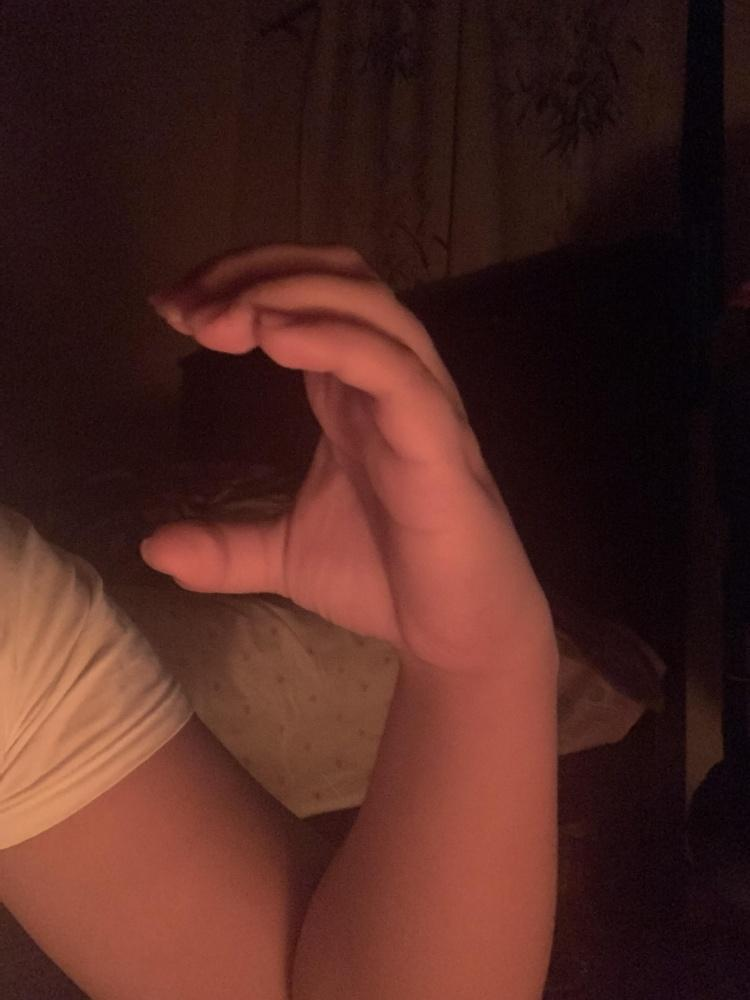c: (140, 235, 556, 672)
